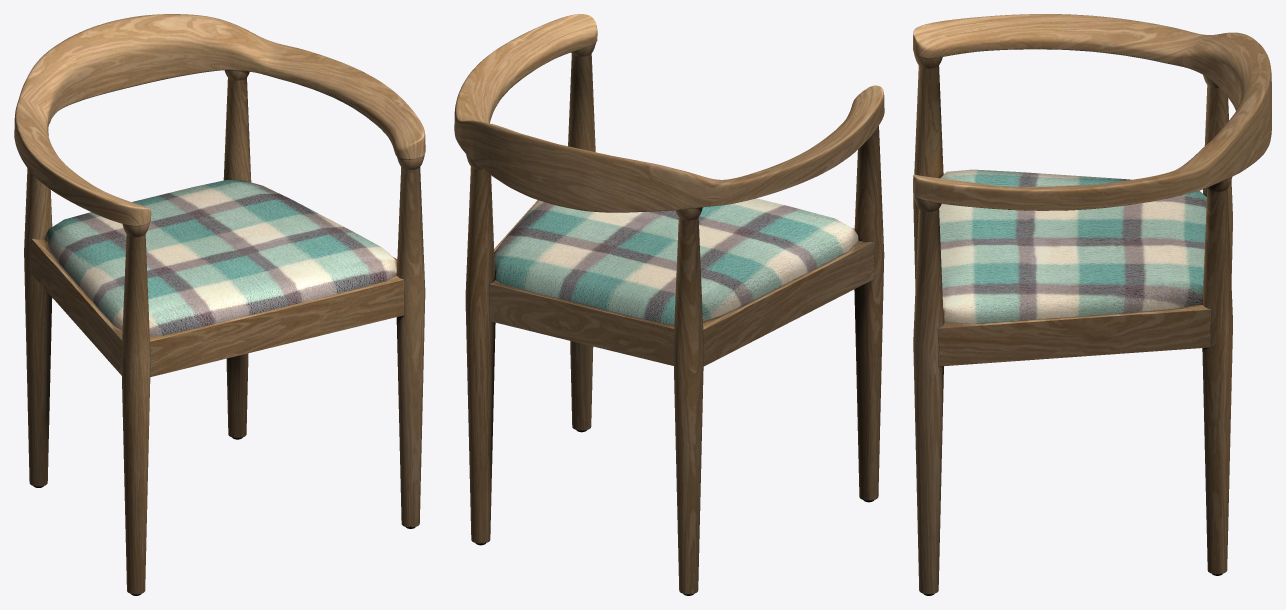
The model's file is SANDALYE.glb.
The picture shows the model from 3 angles, left to right: view 1: azimuth 30°, elevation 25°; view 2: azimuth 150°, elevation 25°; view 3: azimuth 270°, elevation 25°; orthographic projection. The views are drawn at different scales.
Parts seen in each view (by area): view 1: Circle; view 2: Circle; view 3: Circle.
Part boxes in pixels (x1,y1,x2,y2): Circle: (14, 14, 425, 595); Circle: (454, 14, 884, 595); Circle: (913, 14, 1271, 595).
Size of the model in its own units: 1.05 by 1.25 by 0.897.
3 materials, 3 textured.
